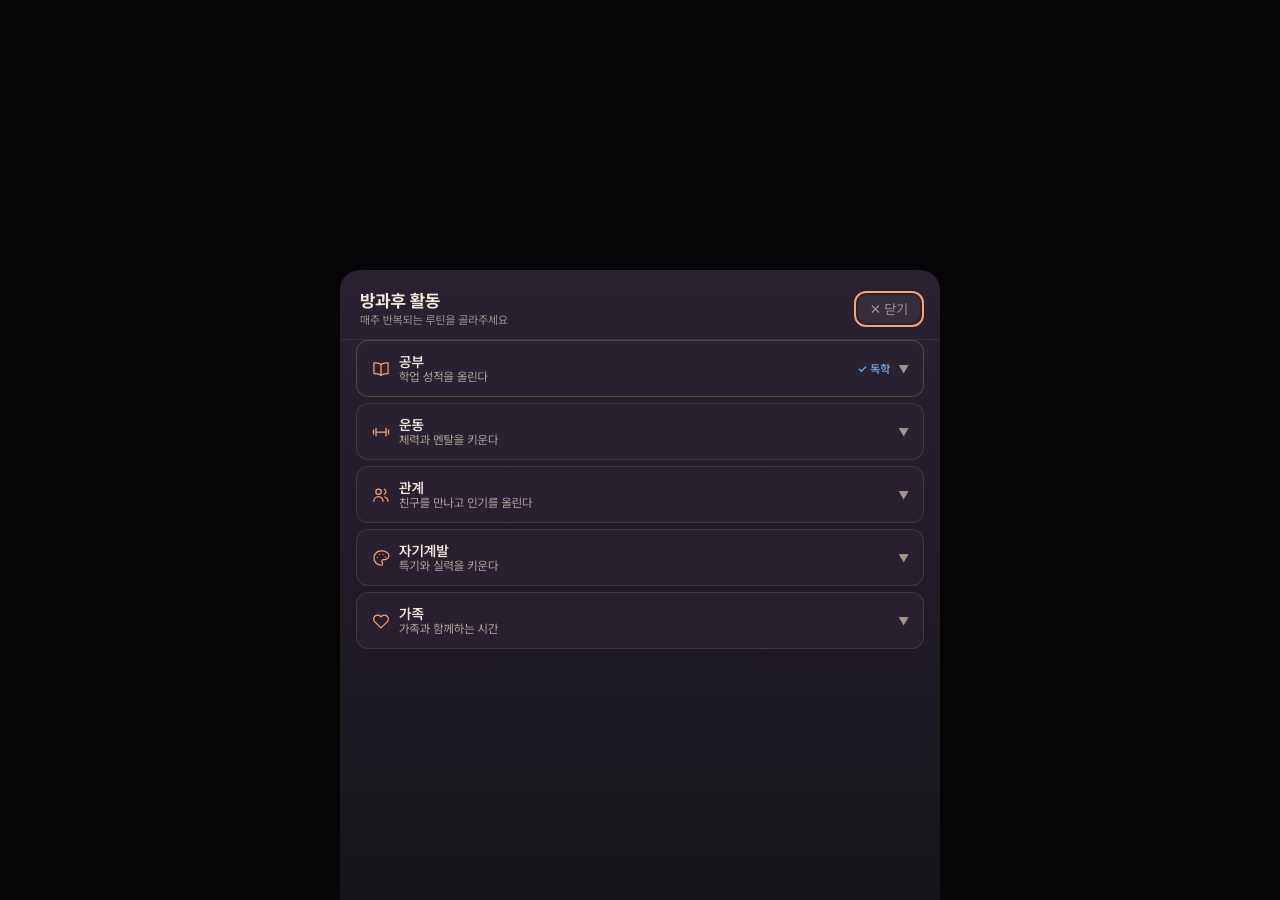
루틴 피커 — 이 선택 때문에 이번 주를 확정할 수 없게 되면 막는다(엔진 판정, 플래그 꺼짐에도 나가는 경로) › 저녁 칸에 있던 활동을 방과후로 옮기면 저녁 칸은 비므로 한 칸 몫만 잰다
Click the button "운동 체력과 멘탈을 키운다 ▼": (449, 440) top-left (357, 404), bottom-right (923, 459)
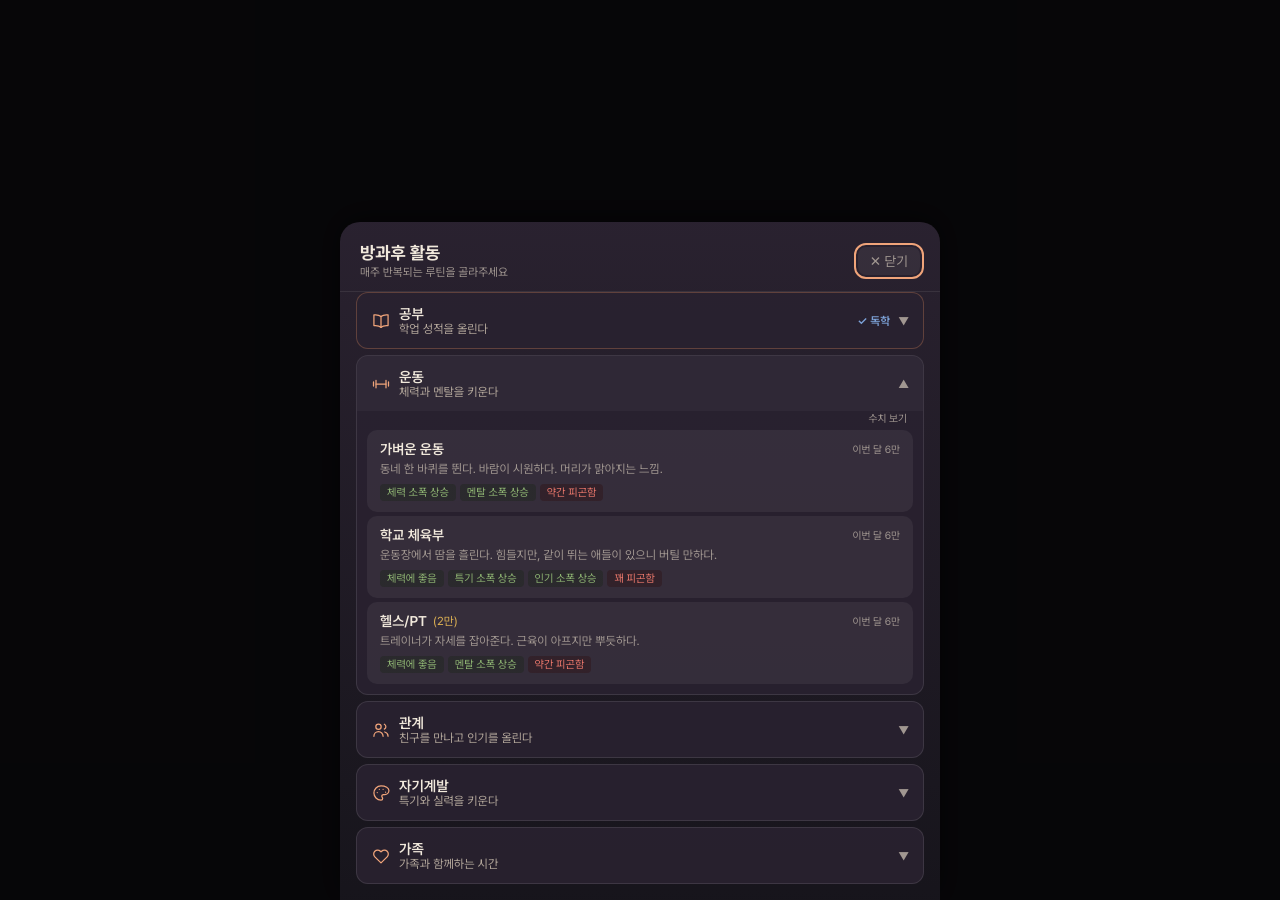
Check: the button that starts with "헬스/PT" is enabled, box top-left (367, 602), bottom-right (913, 684)
